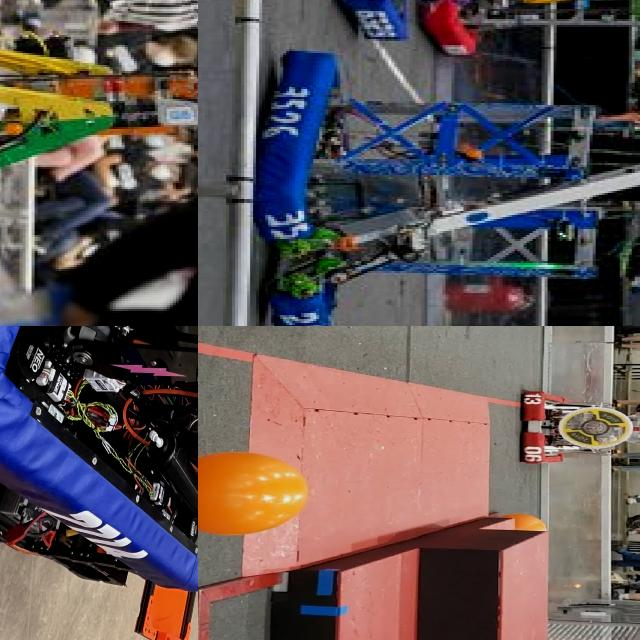FRC-Robots: (244, 76, 640, 326), (0, 326, 198, 640), (0, 0, 198, 278), (318, 0, 640, 48), (409, 0, 640, 65)
